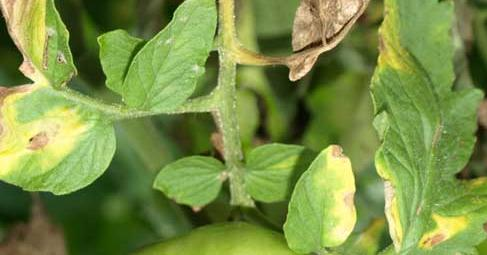Tomato Early blight leaf: (375, 0, 487, 248), (0, 84, 118, 210), (278, 133, 368, 255)
Tomato leaf: (112, 0, 225, 109)
